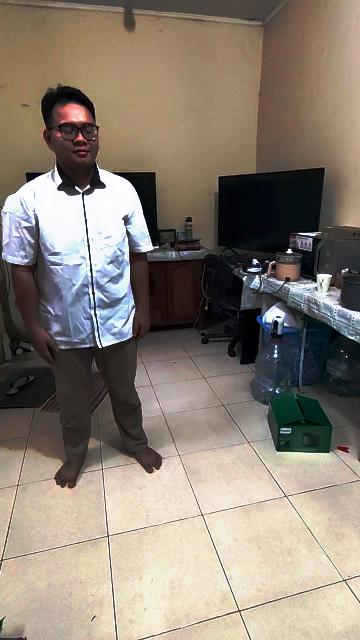berdiri: (1, 84, 166, 492)
